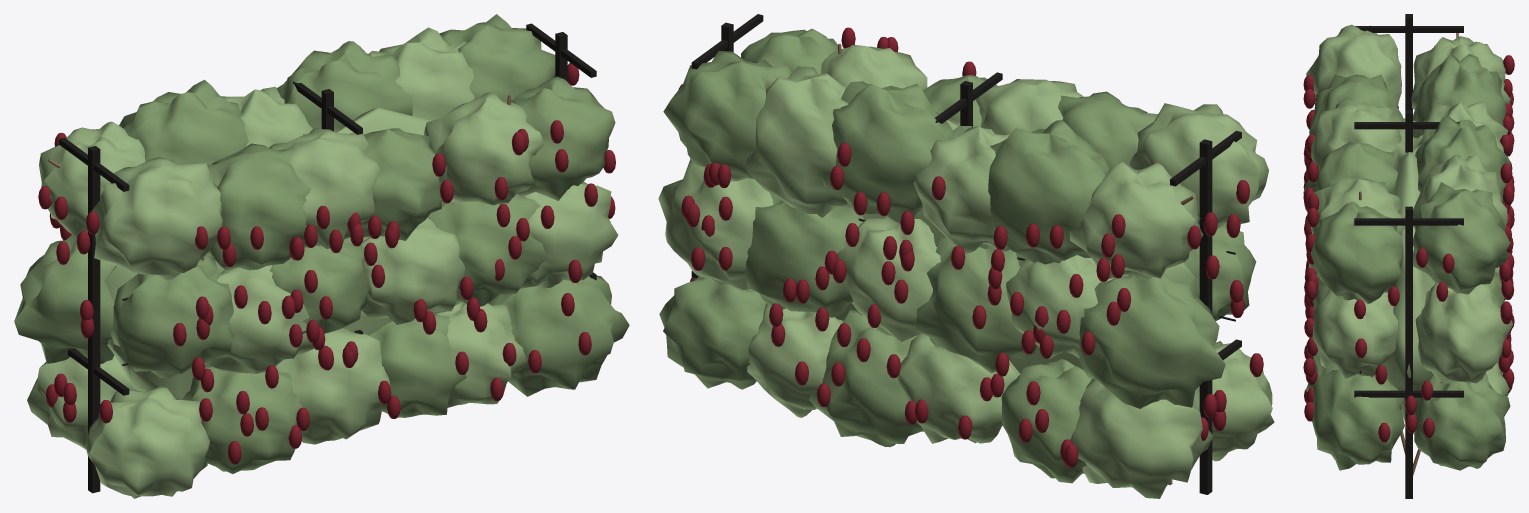
The model's file is malnaszeder-fal.glb.
3 renders of one model, left to right at view 1: azimuth 30°, elevation 25°; view 2: azimuth 150°, elevation 25°; view 3: azimuth 270°, elevation 25°, orthographic. The views are drawn at different scales.
Visible parts, largest first — view 1: lomb-21, lomb-19, lomb-20, lomb-34, lomb-24, lomb-33, lomb-25, lomb-2, lomb-36, lomb-22, lomb-6, lomb-29 (+19 smaller); view 2: lomb-2, lomb-6, lomb-12, lomb-1, lomb-15, lomb-3, lomb-18, lomb-14, lomb-8, lomb-21, lomb-16, lomb-10 (+19 smaller); view 3: lomb-18, lomb-17, lomb-36, lomb-34, lomb-16, lomb-35, lomb-kozep, lomb-21, lomb-6, lomb-27, lomb-12, lomb-30 (+15 smaller).
Boxes of the visible parts, box(x1,y1,x2,y2) form: lomb-21: box(91, 157, 222, 280); lomb-19: box(85, 386, 209, 498); lomb-20: box(110, 254, 234, 377); lomb-34: box(488, 275, 629, 396); lomb-24: box(207, 143, 311, 270); lomb-33: box(424, 92, 543, 205); lomb-25: box(275, 328, 390, 444); lomb-2: box(14, 234, 115, 363); lomb-36: box(511, 76, 615, 200); lomb-22: box(182, 367, 303, 473); lomb-6: box(119, 80, 248, 164); lomb-29: box(360, 218, 465, 324); lomb-2: box(1078, 273, 1225, 408); lomb-6: box(988, 120, 1111, 264); lomb-12: box(822, 81, 953, 223); lomb-1: box(1070, 378, 1213, 498); lomb-15: box(745, 66, 850, 217); lomb-3: box(1069, 162, 1203, 279); lomb-18: box(663, 50, 791, 181); lomb-14: box(744, 193, 864, 317); lomb-8: box(916, 237, 1036, 373); lomb-21: box(1130, 103, 1268, 229); lomb-16: box(659, 277, 765, 389); lomb-10: box(809, 309, 923, 447); lomb-18: box(1413, 182, 1510, 294); lomb-17: box(1415, 283, 1512, 384); lomb-36: box(1311, 201, 1403, 304); lomb-34: box(1312, 369, 1404, 470); lomb-16: box(1414, 372, 1510, 470); lomb-35: box(1312, 285, 1397, 378); lomb-kozep: box(1381, 118, 1434, 421); lomb-21: box(1306, 24, 1401, 96); lomb-6: box(1413, 54, 1506, 126); lomb-27: box(1311, 99, 1401, 165); lomb-12: box(1415, 115, 1507, 203); lomb-30: box(1303, 142, 1397, 193).
Size of the model in its own units: 3.56 by 2.18 by 1.39.
